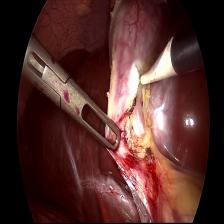Grasper: (26, 34, 123, 155)
Hook: (130, 36, 179, 86)
